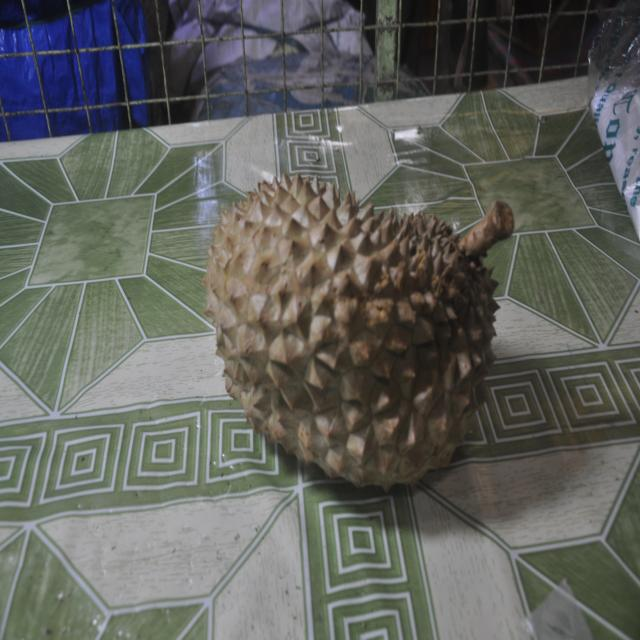mature: (180, 151, 539, 522)
